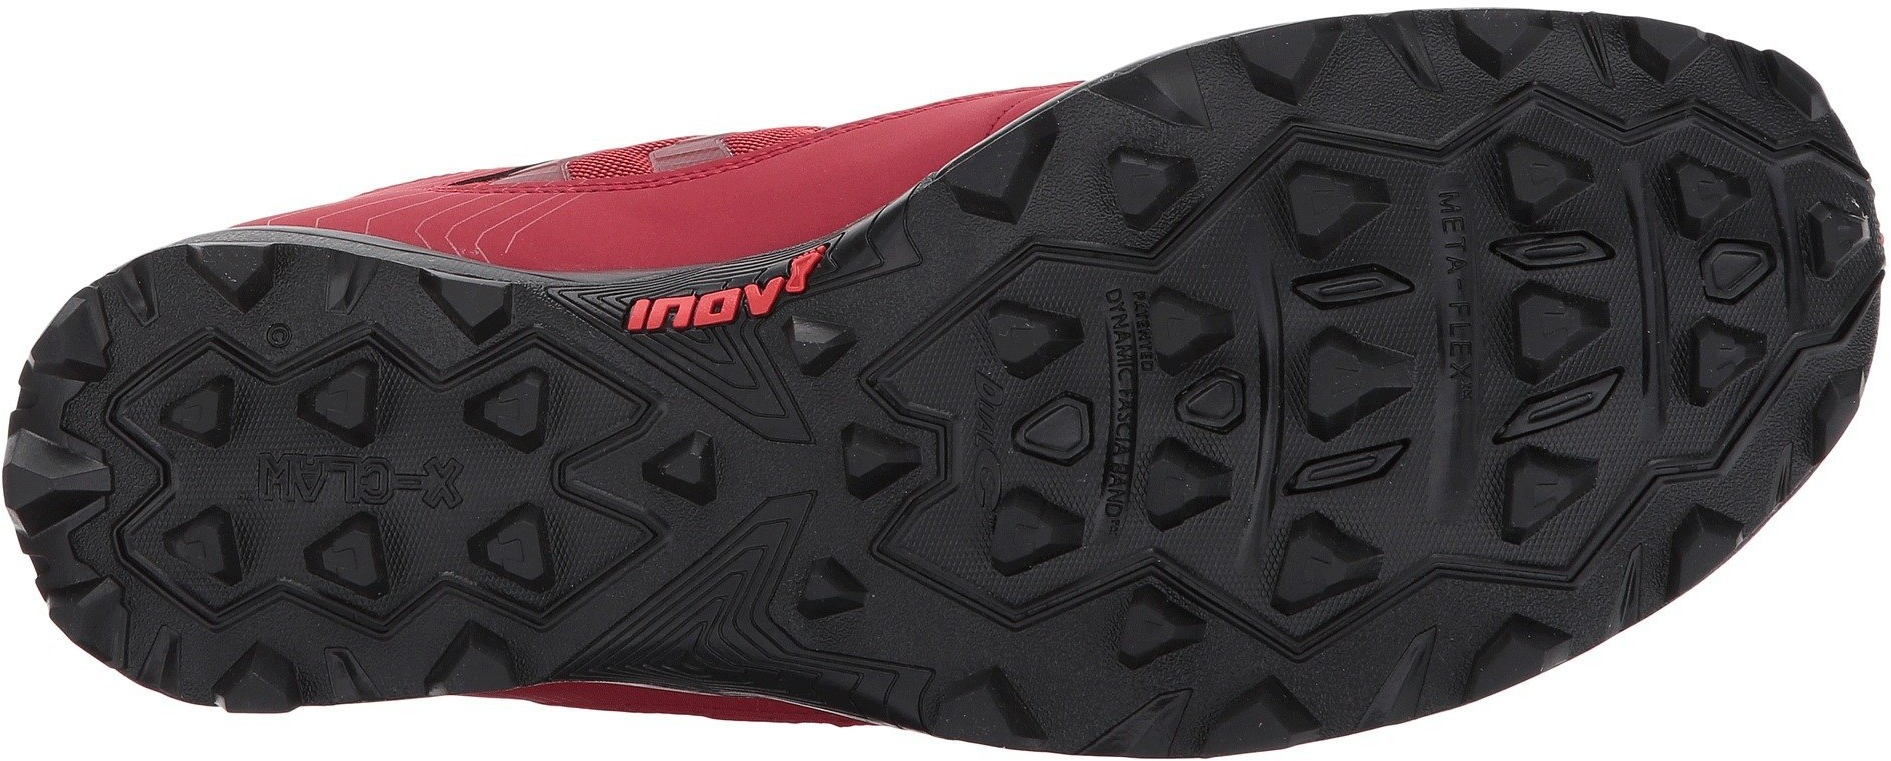chevron: (1643, 74, 1745, 165)
other: (644, 552, 775, 680)
text: (248, 387, 473, 575), (697, 274, 784, 358), (398, 441, 481, 523), (248, 438, 329, 513), (617, 286, 698, 359), (320, 443, 396, 516)
triangle: (1088, 109, 1622, 617), (177, 302, 570, 672), (806, 275, 1131, 589), (1633, 151, 1863, 390)
